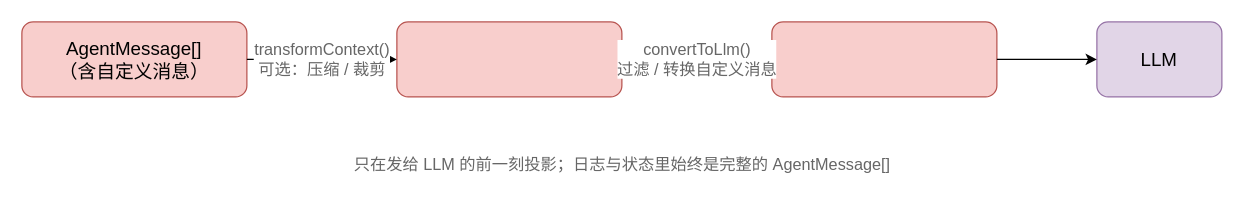
The diagram is 1244 pixels wide and 206 high, and some of its shapes have lost their labels. The box of each missing label's shape, as (x1, y1, x2, y2) in pixels:
AgentMessage[]: (396, 21, 622, 97)
Message[] （纯 LLM 消息）: (771, 21, 997, 97)
